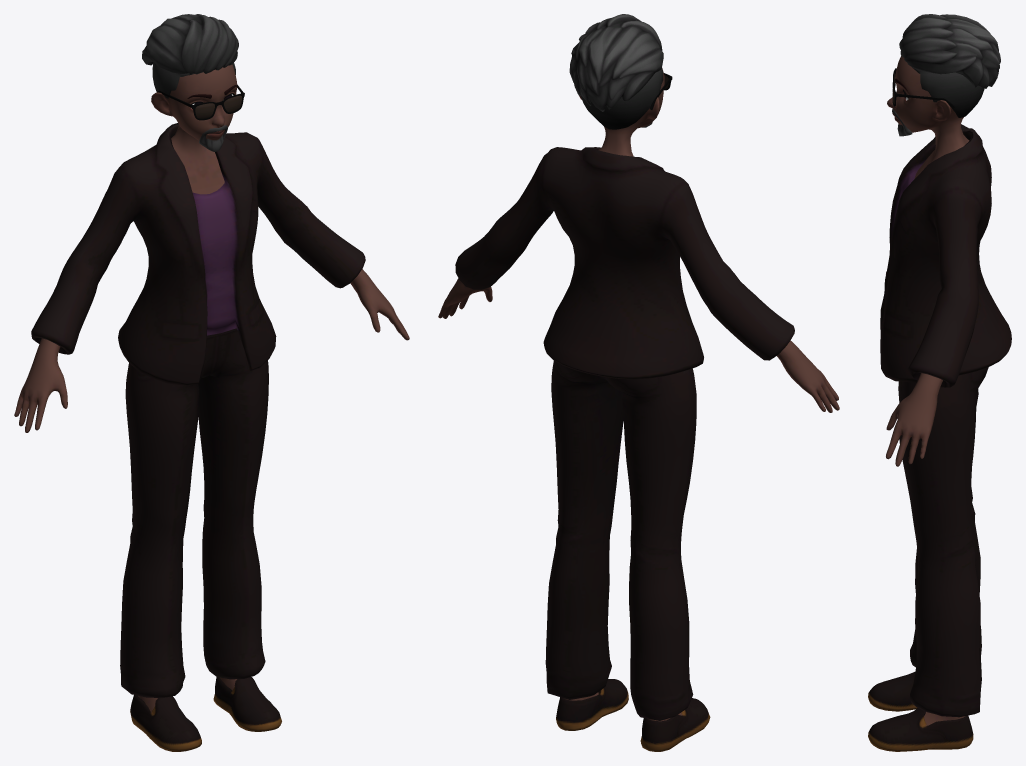
Rendered from Elegant Man_Mesh.obj.
3 views of the same model, side by side, from view 1: azimuth 30°, elevation 25°; view 2: azimuth 150°, elevation 25°; view 3: azimuth 270°, elevation 25° (orthographic).
Parts seen in each view (by area): view 1: Elegant Man_Mesh_0; view 2: Elegant Man_Mesh_0; view 3: Elegant Man_Mesh_0.
Boxes of the visible parts, x1=… form: Elegant Man_Mesh_0: x1=14, y1=14, x2=409, y2=751; Elegant Man_Mesh_0: x1=438, y1=14, x2=839, y2=751; Elegant Man_Mesh_0: x1=868, y1=14, x2=1011, y2=751.
Bounding box in the file's own units: 1.06 × 1.84 × 0.3385.
Materials: 1 (1 with a texture image).
